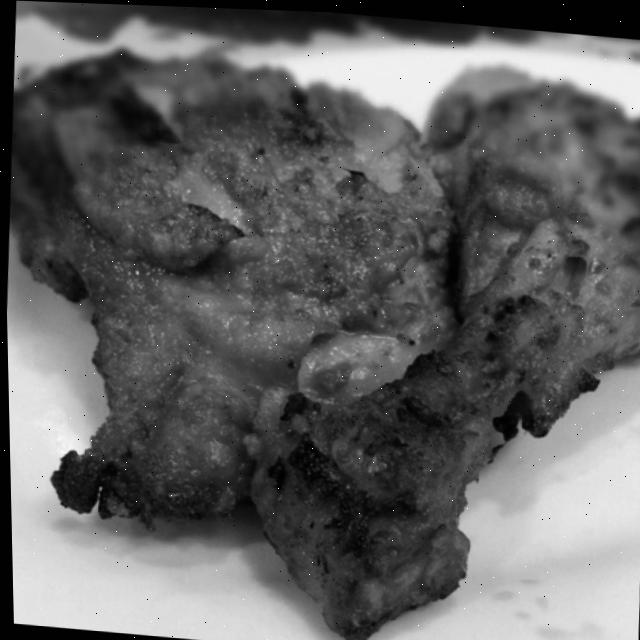鸡肉料理 含炸鸡: (8, 21, 640, 640)
